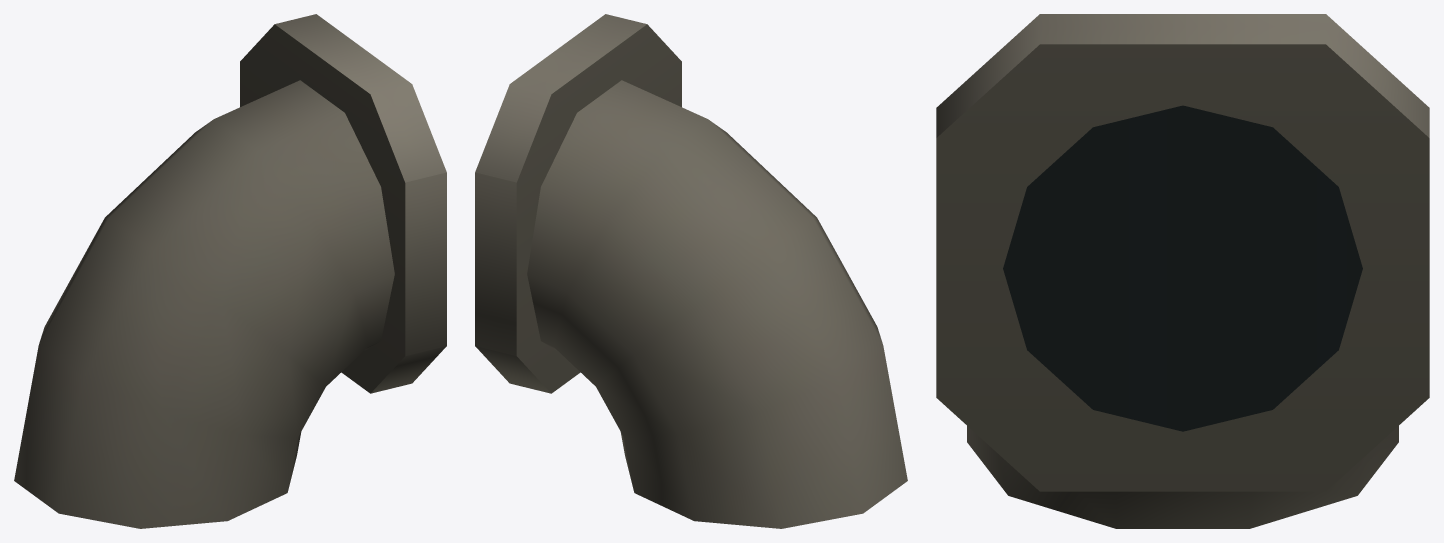
The model's file is Pipe_1B.fbx.
3 renders of one model, left to right at view 1: azimuth 30°, elevation 25°; view 2: azimuth 150°, elevation 25°; view 3: azimuth 270°, elevation 25°, orthographic. The views are drawn at different scales.
Parts seen in each view (by area): view 1: Pipe_1B; view 2: Pipe_1B; view 3: Pipe_1B.
Part boxes in pixels (bbox=[...]): Pipe_1B: bbox=[14, 14, 446, 528]; Pipe_1B: bbox=[475, 14, 907, 528]; Pipe_1B: bbox=[936, 14, 1429, 528].
Bounding box in the file's own units: 1.57 × 1.69 × 1.37.
